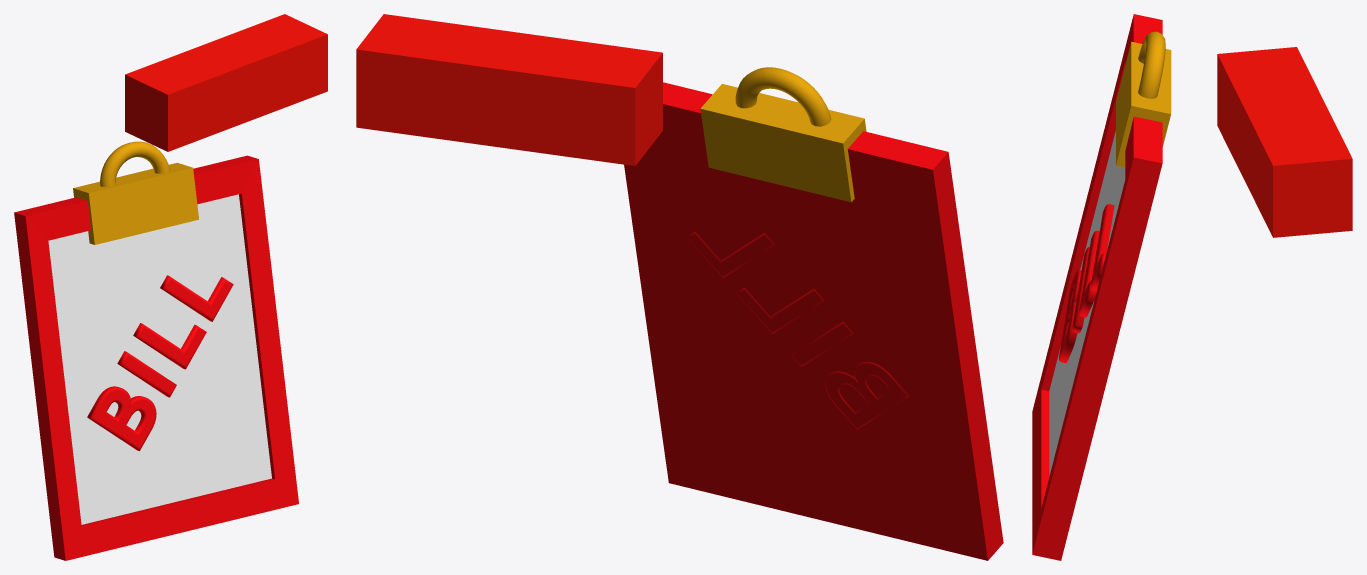
Rendered from bill (1).fbx.
3 renders of one model, left to right at view 1: azimuth 30°, elevation 25°; view 2: azimuth 150°, elevation 25°; view 3: azimuth 270°, elevation 25°, orthographic. The views are drawn at different scales.
Parts seen in each view (by area): view 1: bill.001; view 2: bill.001; view 3: bill.001.
Part boxes in pixels (left/top/right/bottom): bill.001: left=14, top=14, right=327, bottom=560; bill.001: left=356, top=14, right=1003, bottom=560; bill.001: left=1032, top=14, right=1352, bottom=560.
Size of the model in its own units: 231 by 231 by 142.
